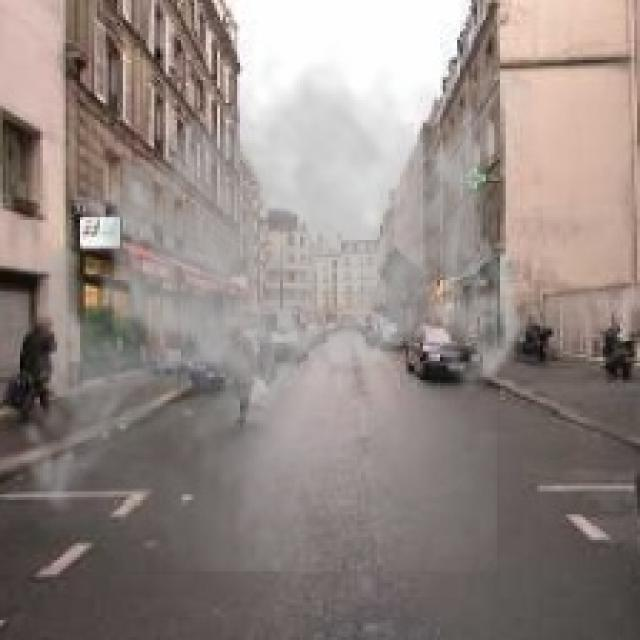Smoke: (6, 42, 532, 572)
